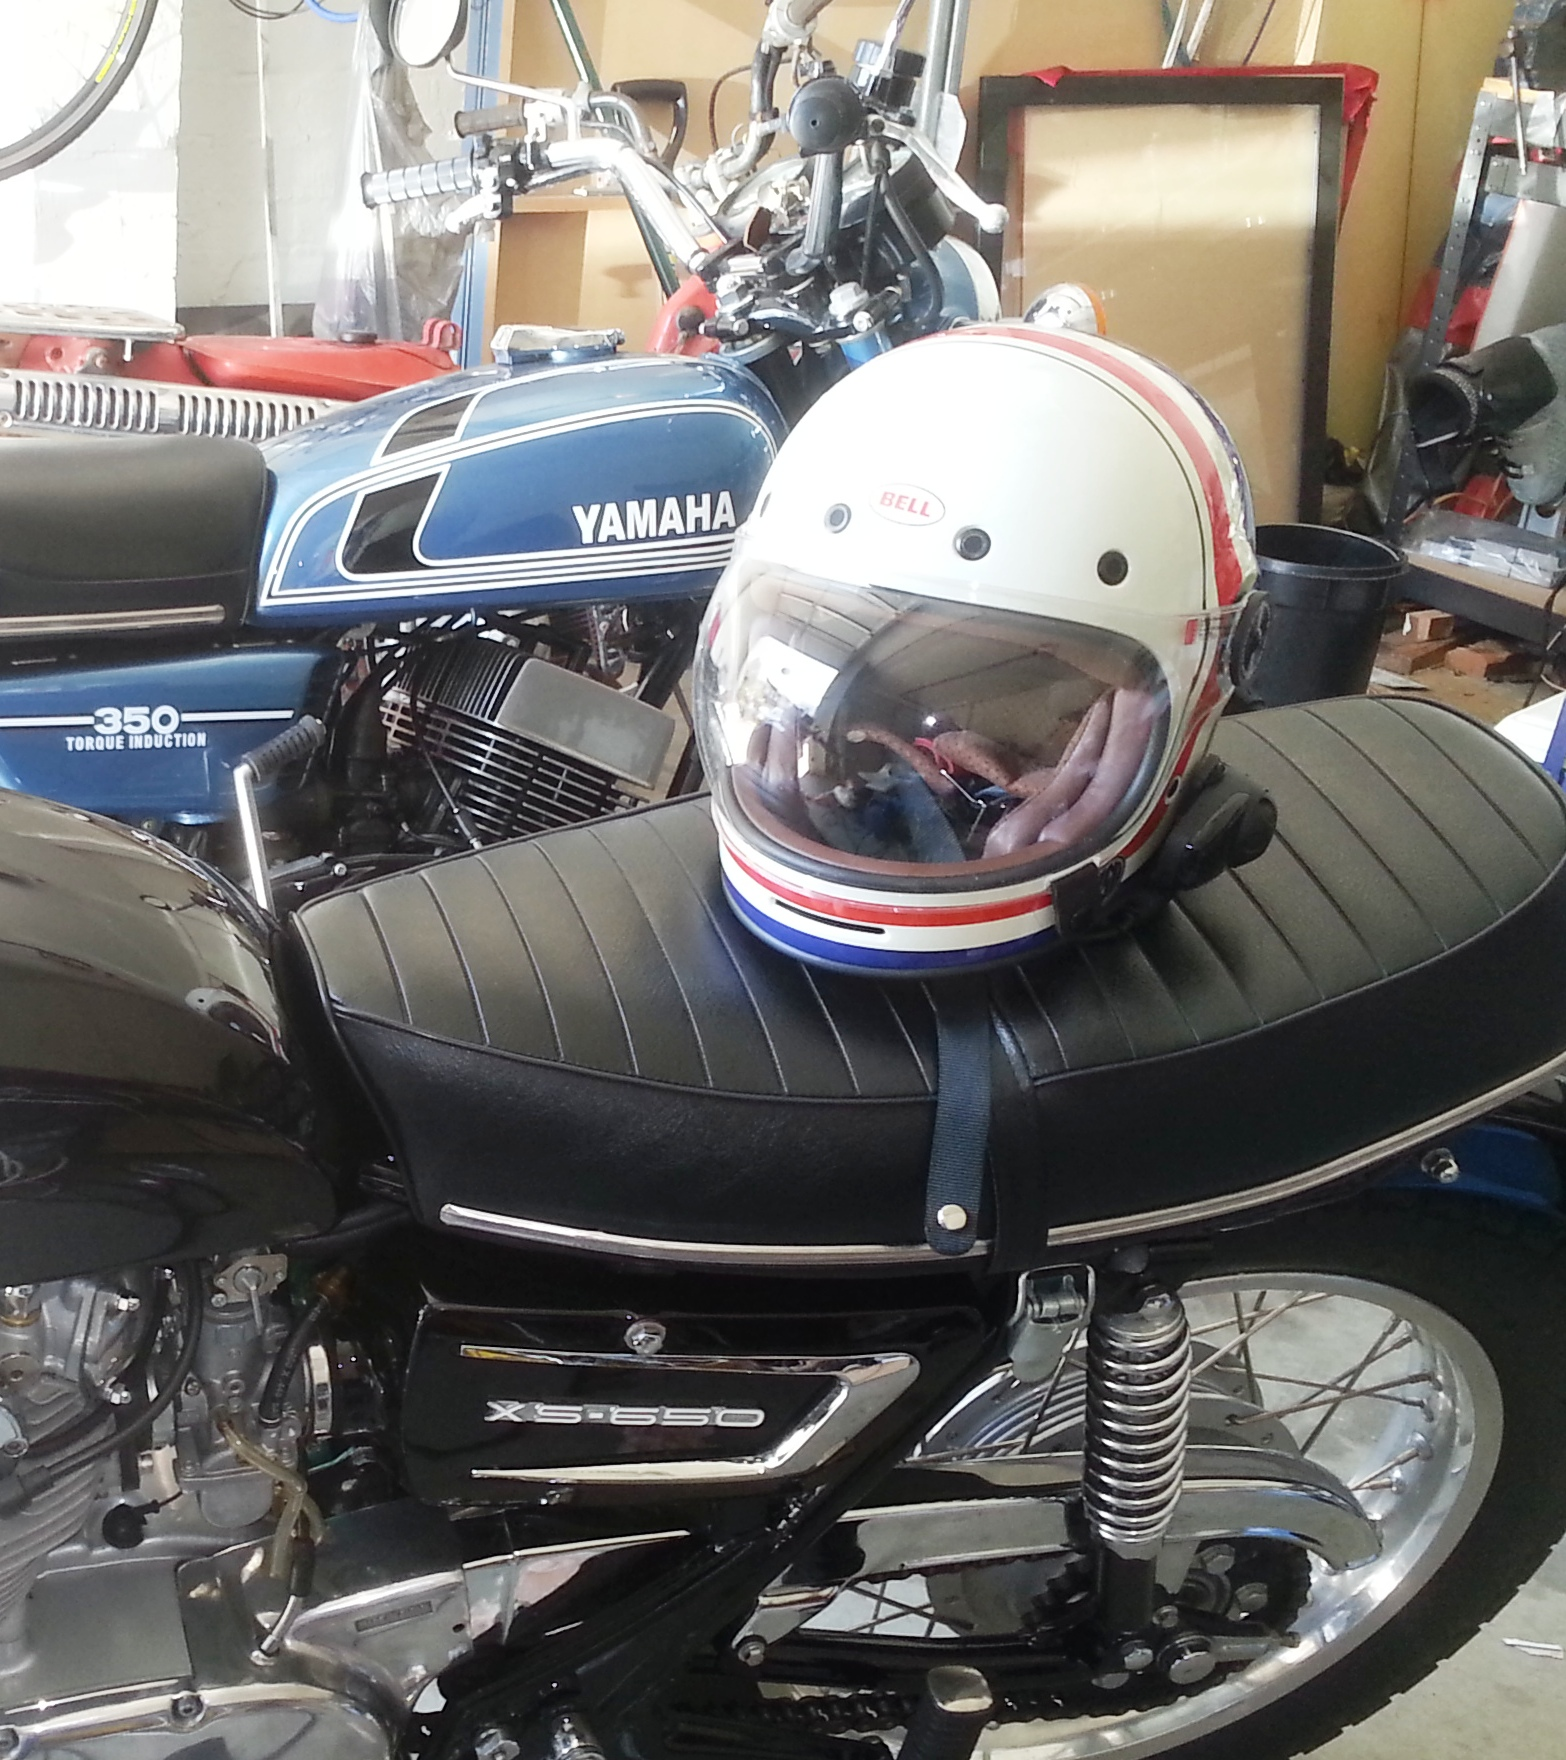with_helmet: (698, 321, 1274, 987)
